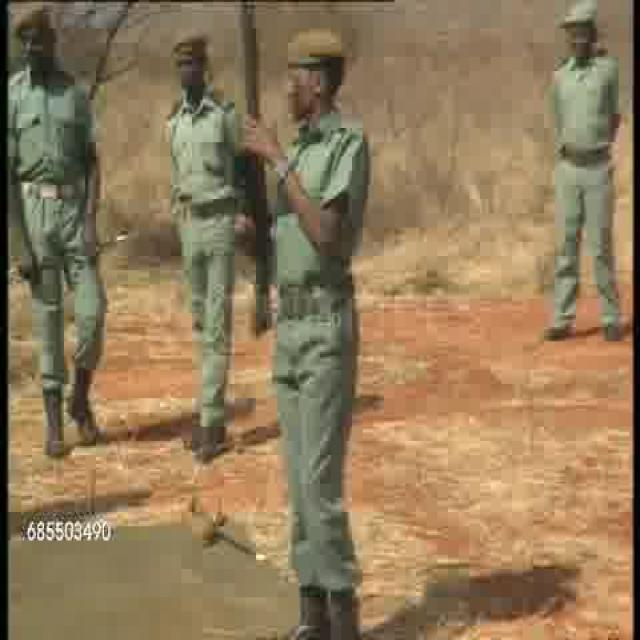poacher: (264, 23, 376, 621), (1, 12, 119, 454), (164, 18, 234, 518), (534, 2, 630, 356)
weapon: (228, 2, 278, 338)
